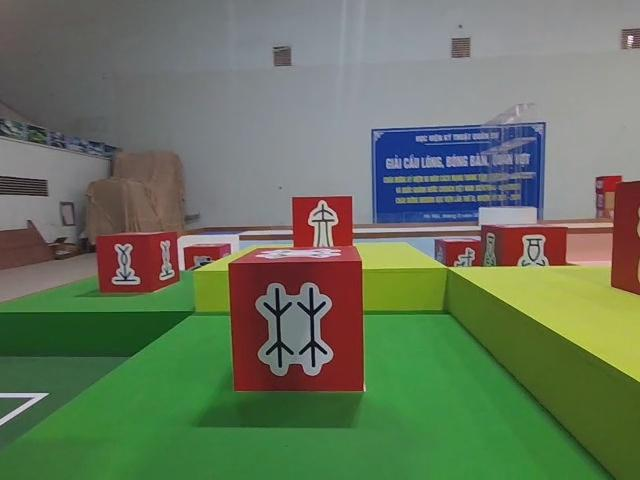R2 Fake: (291, 196, 356, 255)
R2 Real: (226, 242, 370, 397), (96, 227, 180, 299), (481, 221, 566, 276)
